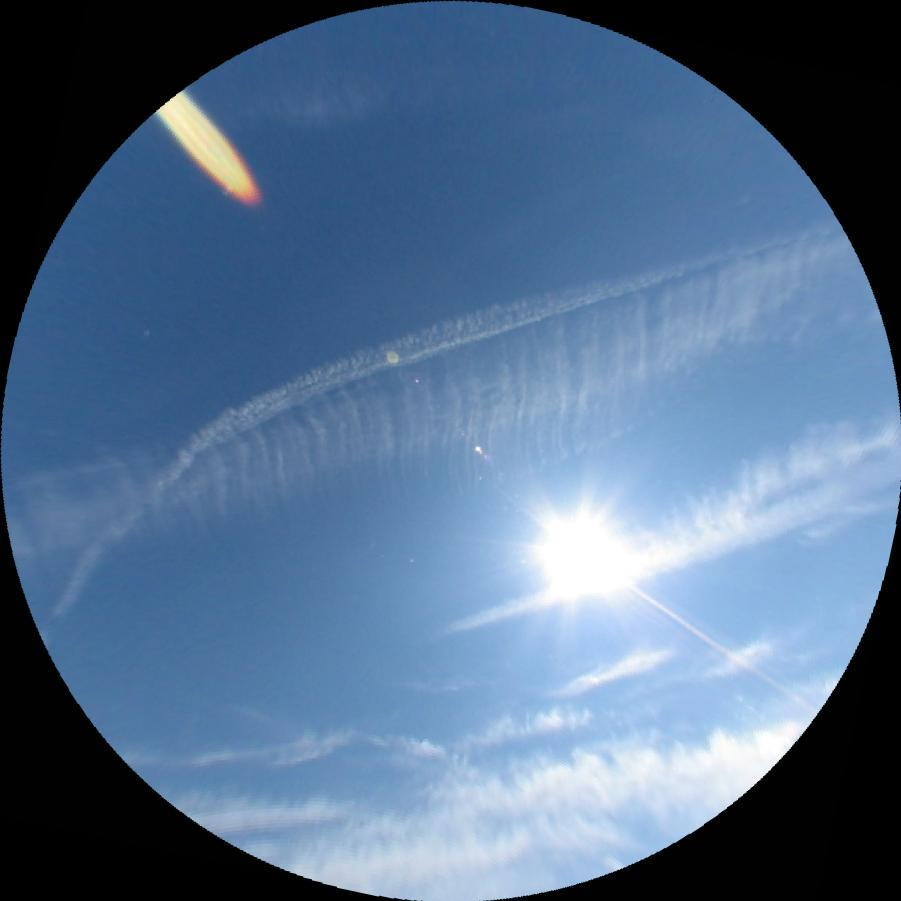contrail veryold: (0, 225, 895, 620), (424, 388, 901, 678)
parasite: (618, 577, 819, 714)
sun: (540, 511, 634, 605)
